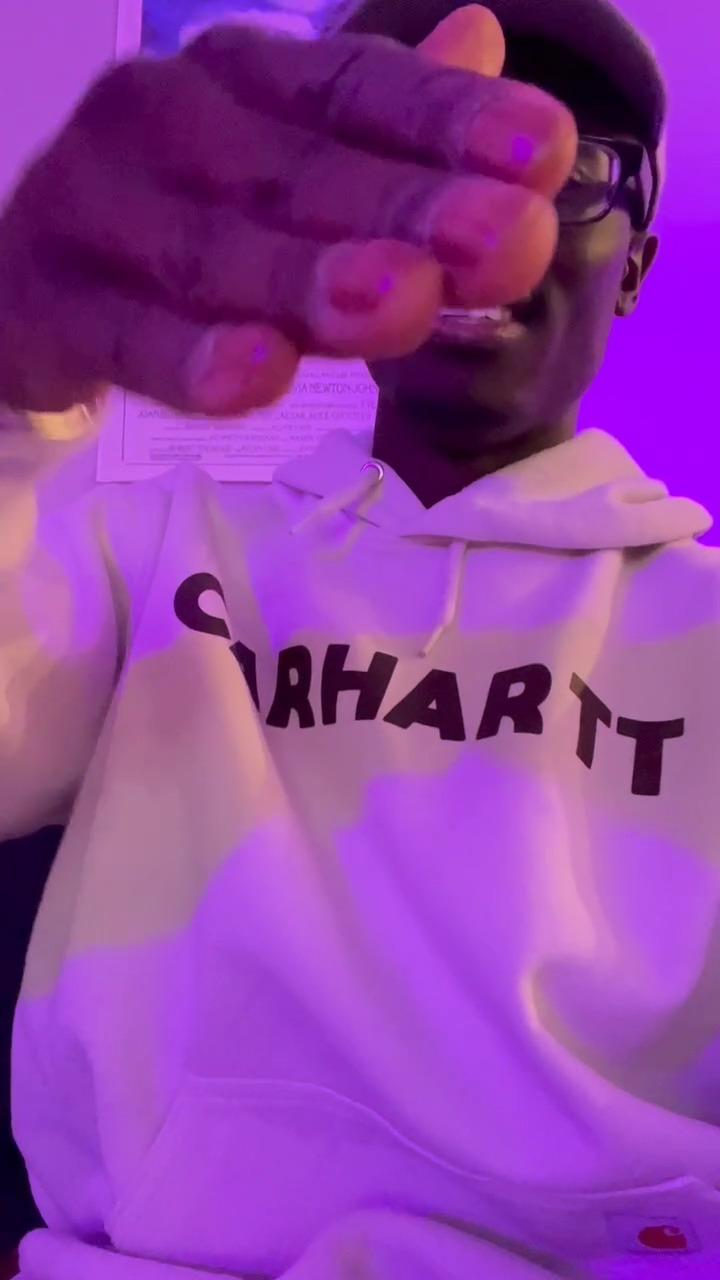Paper: (0, 2, 577, 431)
